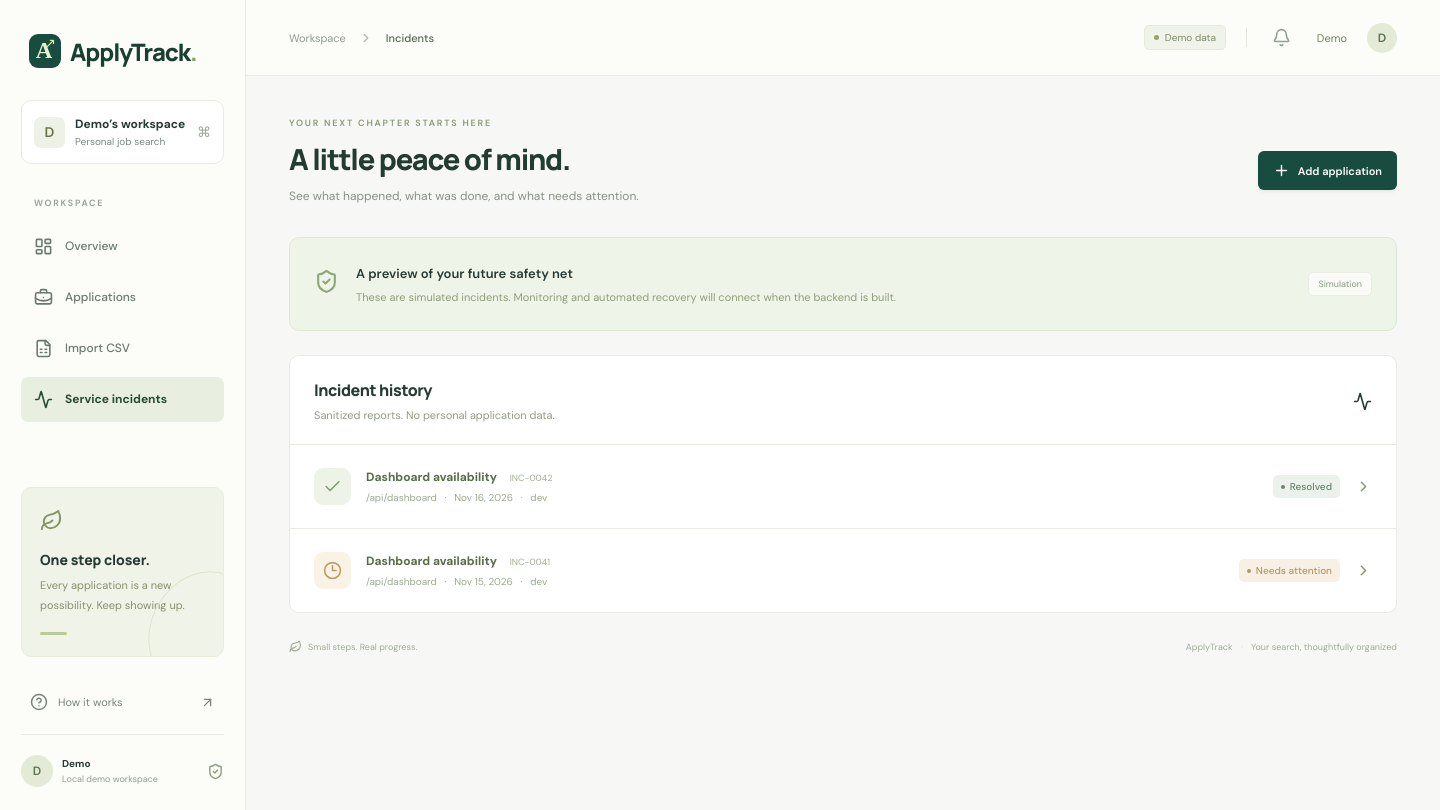
Test: interactive workspace › explains mocked incidents and opens a report
The image size is (1440, 810).
Expected: the text "A preview of your future safety net" is shown, [356,265,573,282]
Click the button "INC-0042": (332,487) [290,444,1396,528]
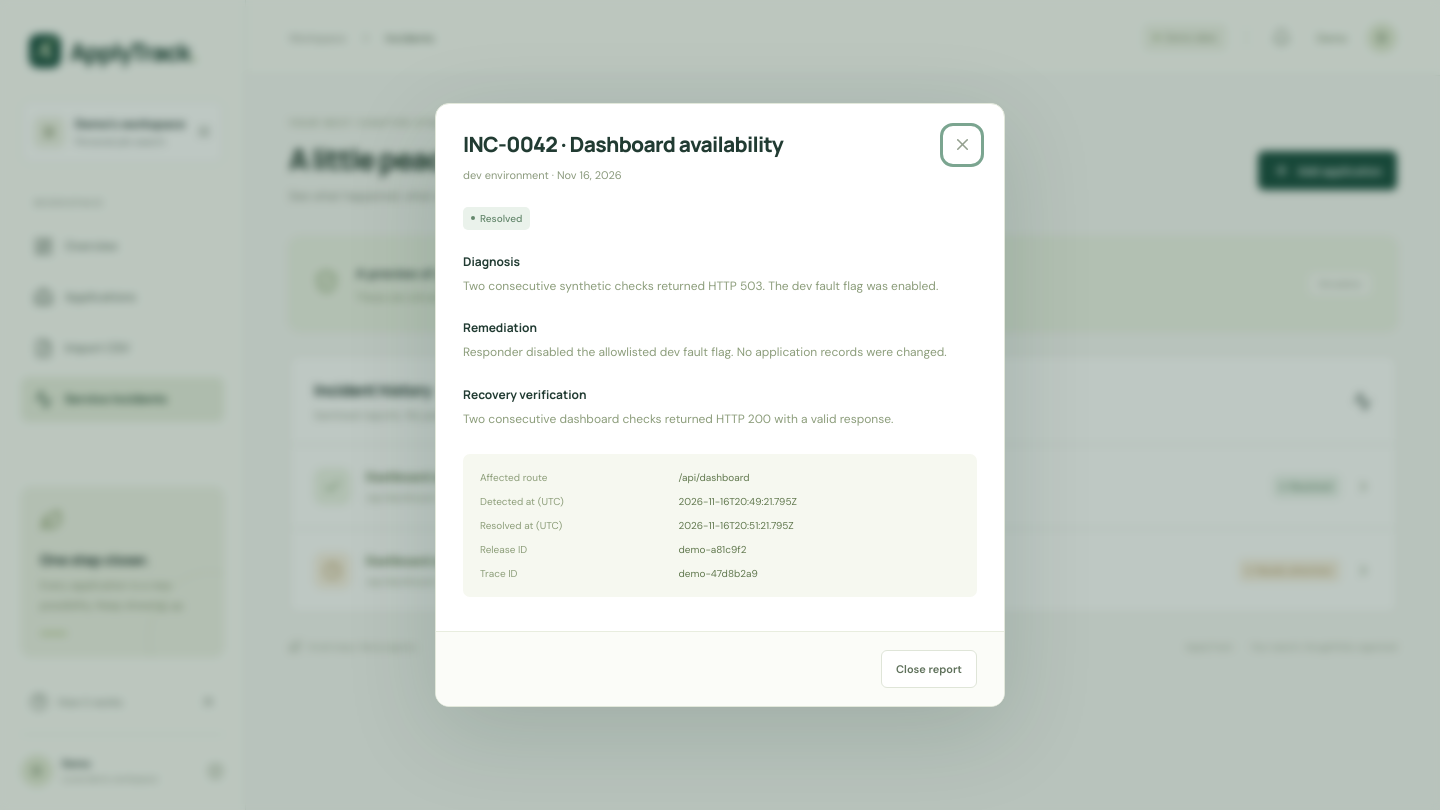
Expected: the heading "Recovery verification" is shown, [463,386,586,403]
Expected: the text "Two consecutive dashboard checks" is shown, [463,411,893,427]
Click the button "Close report": (929,669) [881,650,977,688]
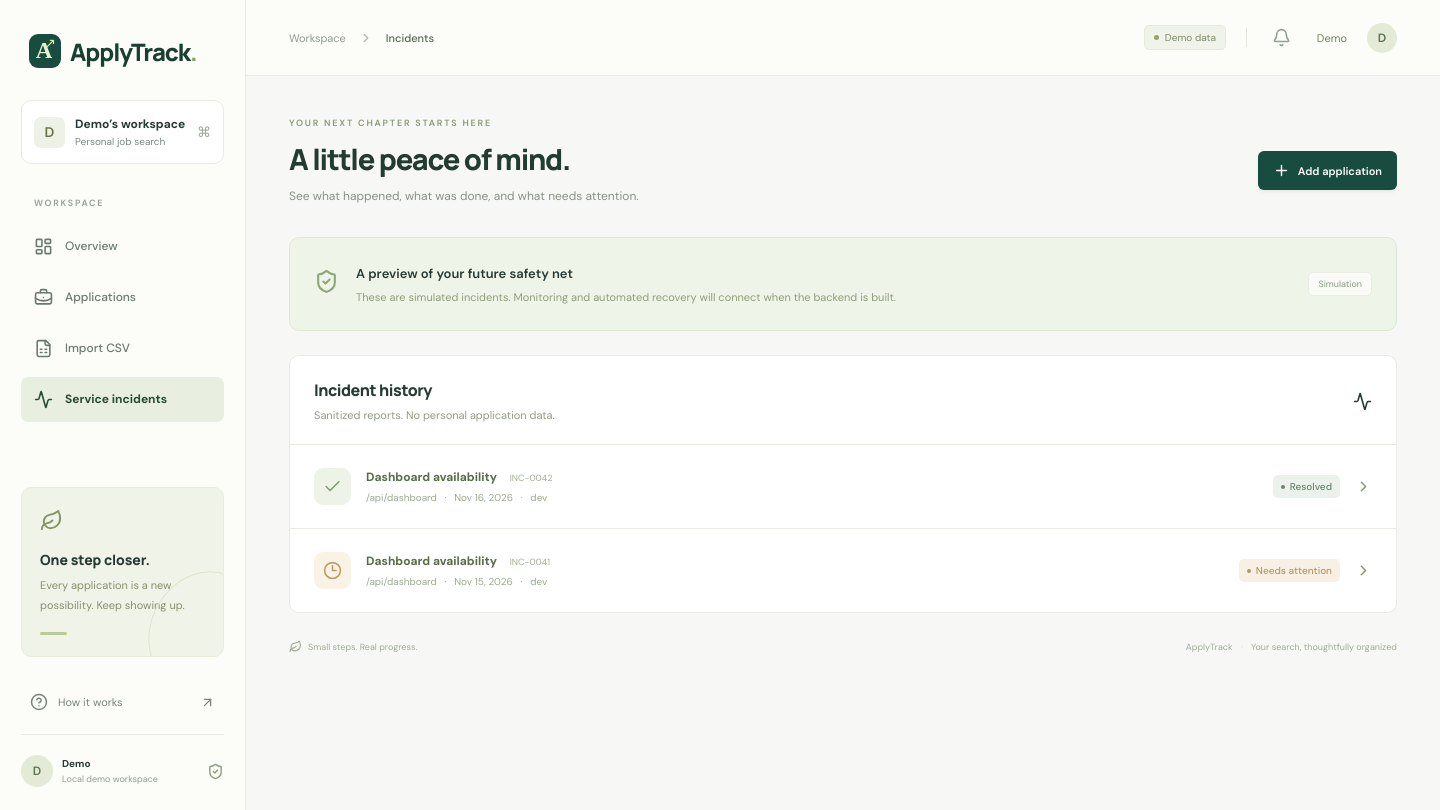
Expected: the dialog is gone
